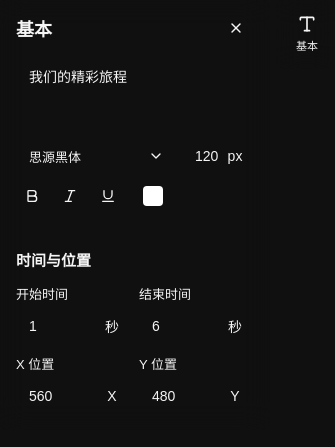
it: FloatingInspector › keeps the original text layout and exposes a measurement failure
Step 1. Click the button named "粗体" → (32, 196), box [16, 180, 48, 212]
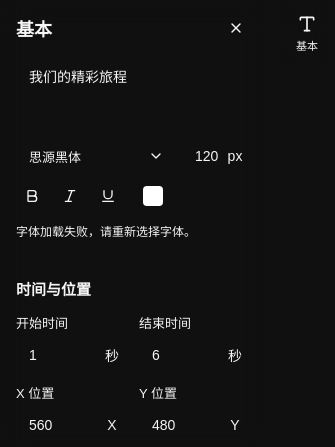
Now the message reads "字体加载失败，请重新选择字体。", box [16, 225, 196, 239]
